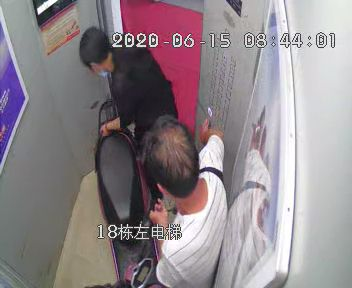Electric-bicycle: (93, 99, 155, 287)
